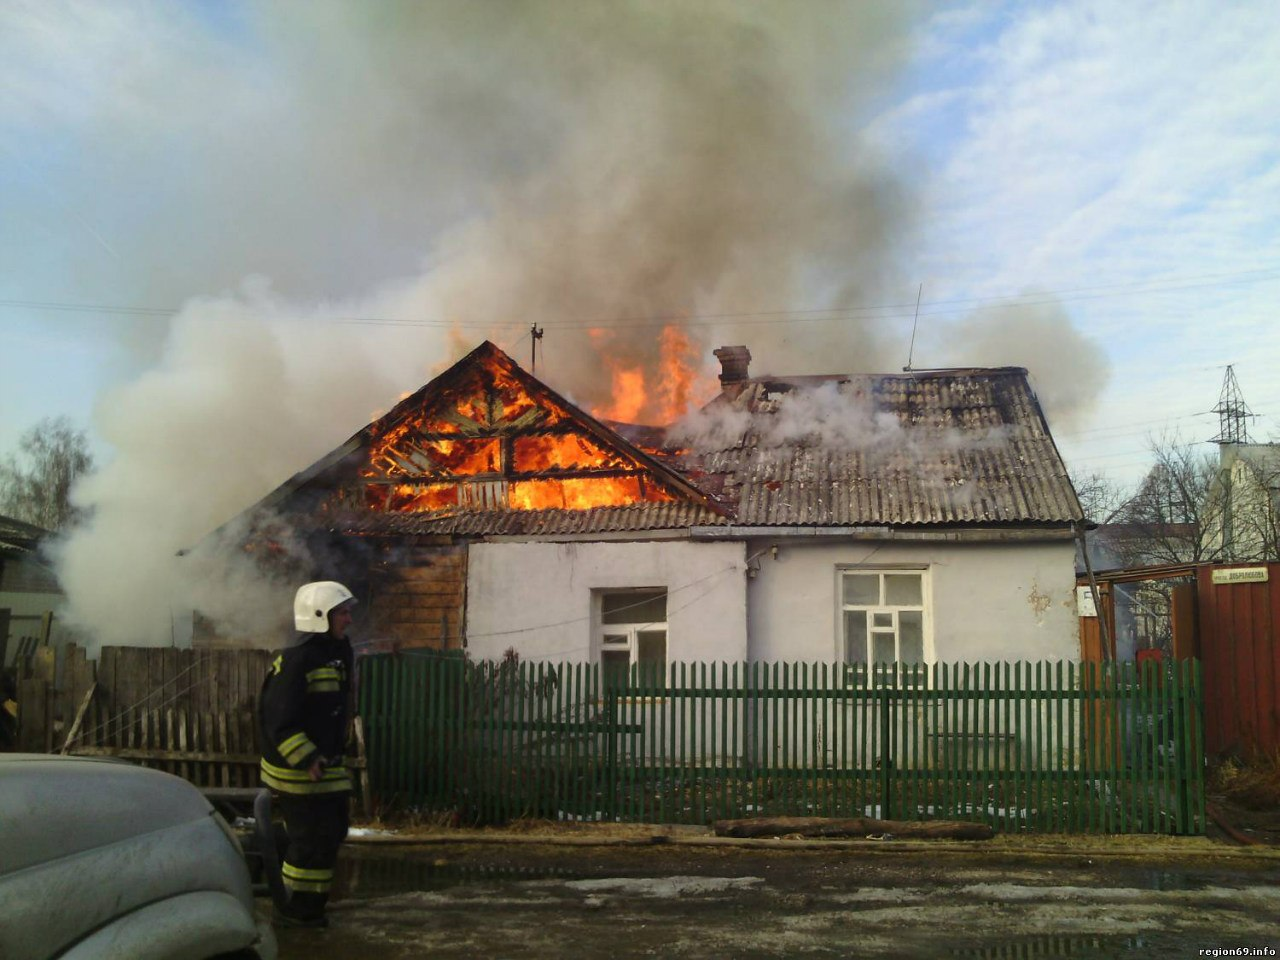fire: (422, 7, 909, 367), (106, 326, 714, 579)
